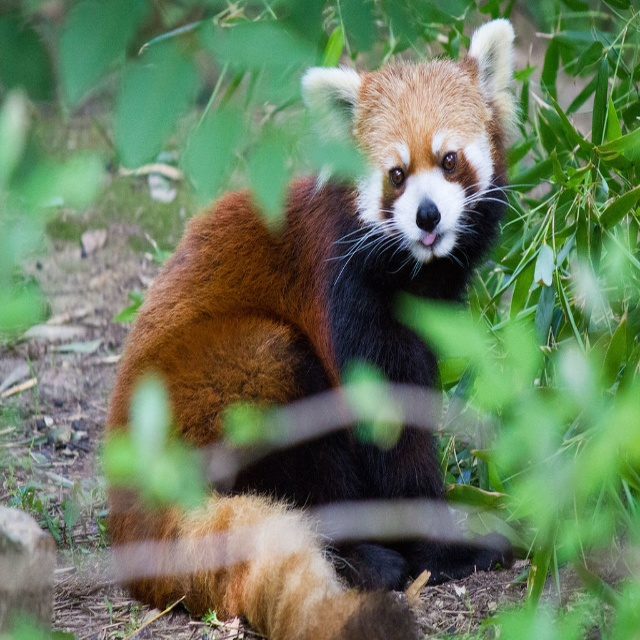Red panda: (101, 17, 543, 640)
